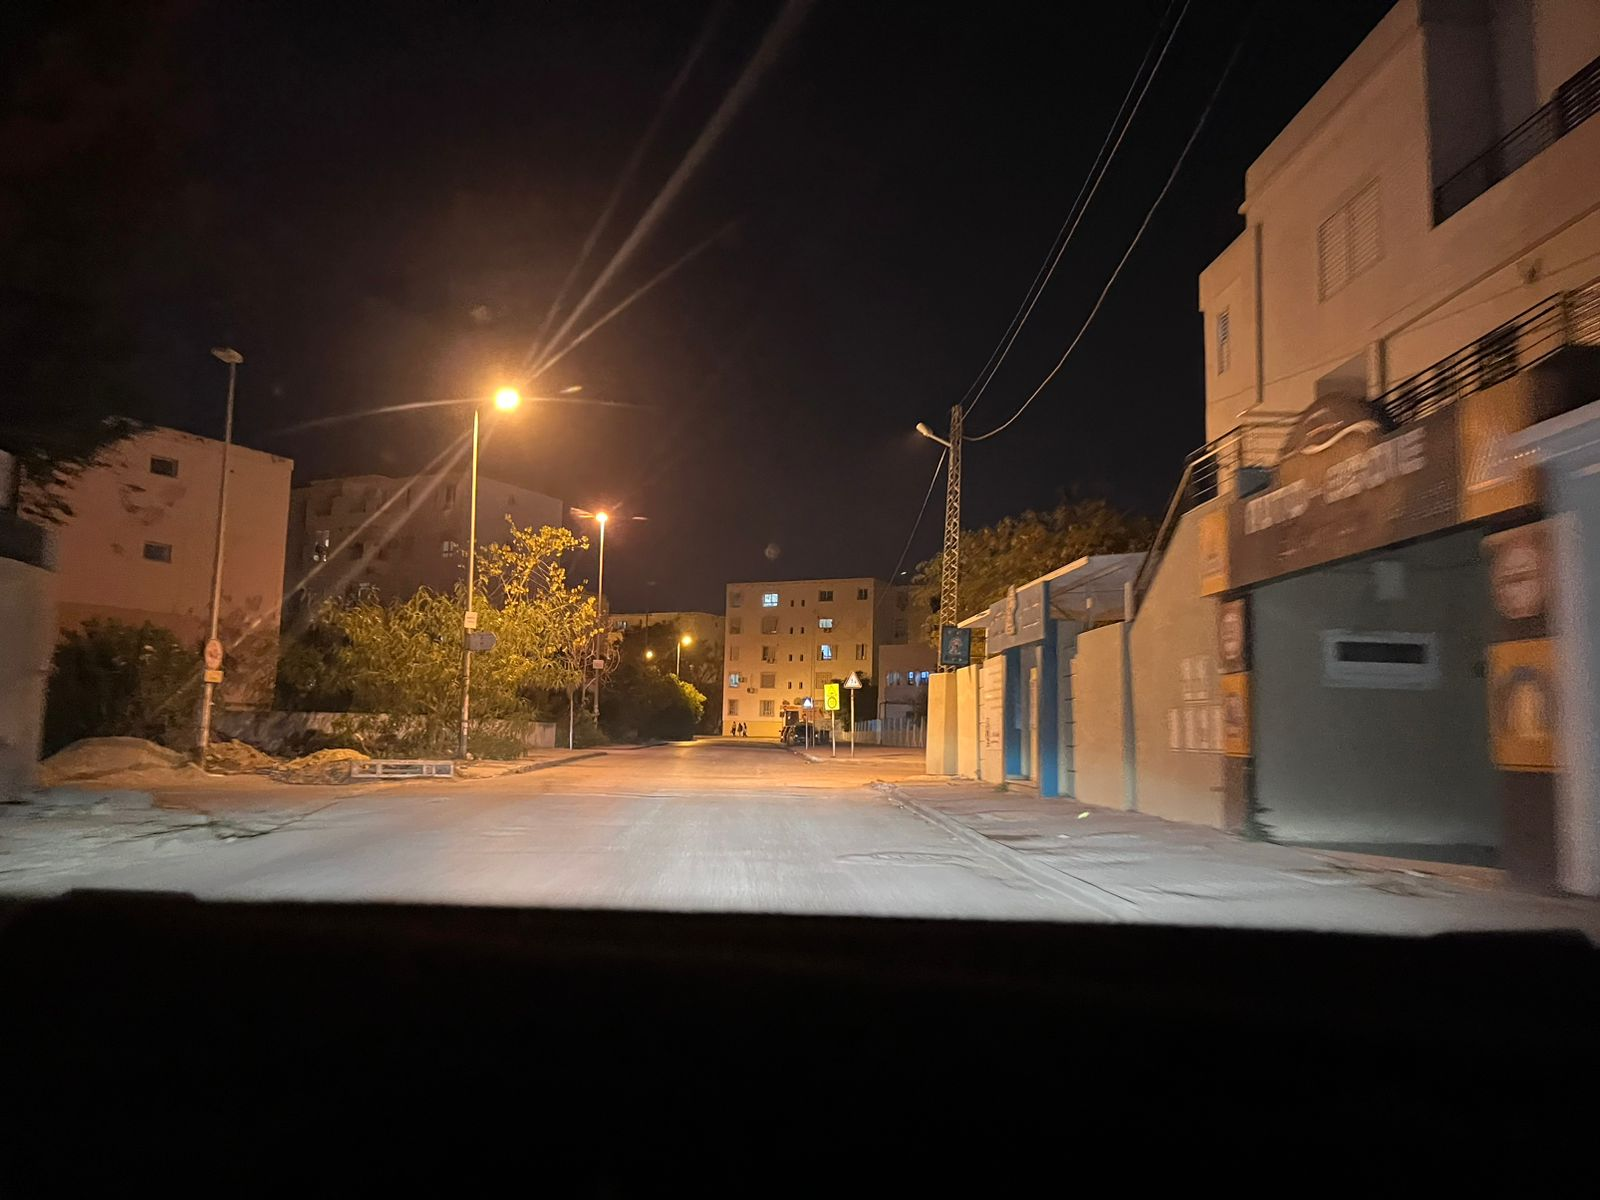SpeedLimit30: (824, 683, 840, 711)
